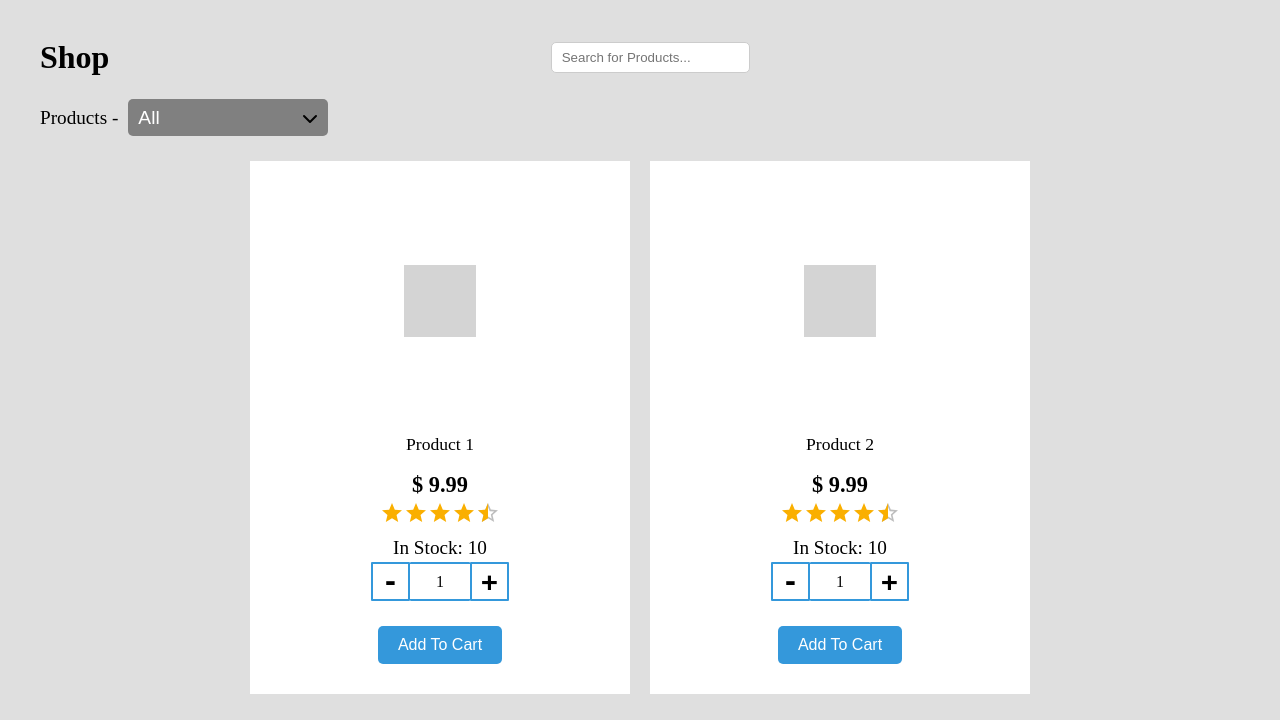
Shop › Categories onclick proper content render
Select "Cat 1" in the dropdown: (228, 118) [128, 99, 328, 136]
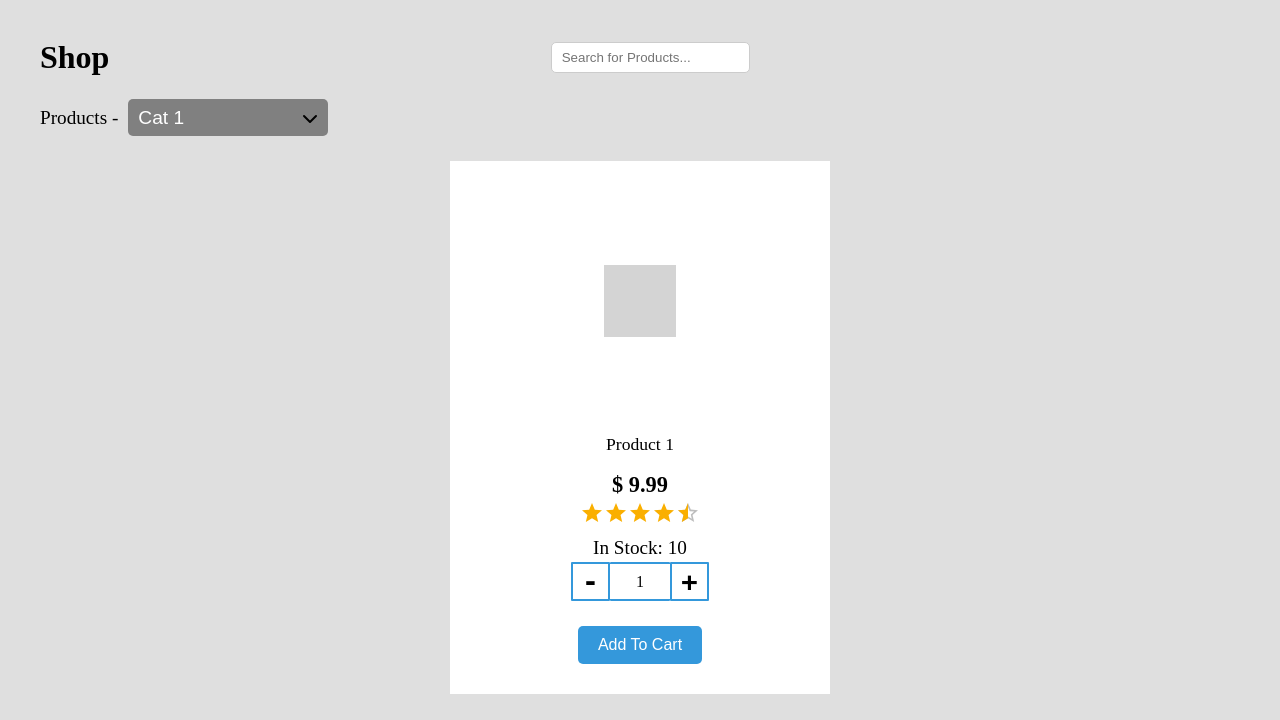
Expected: the text "Product 1" is shown, [606, 431, 674, 459]
Now the text "Product 2" is gone
Select "Cat 2" in the dropdown: (228, 118) [128, 99, 328, 136]
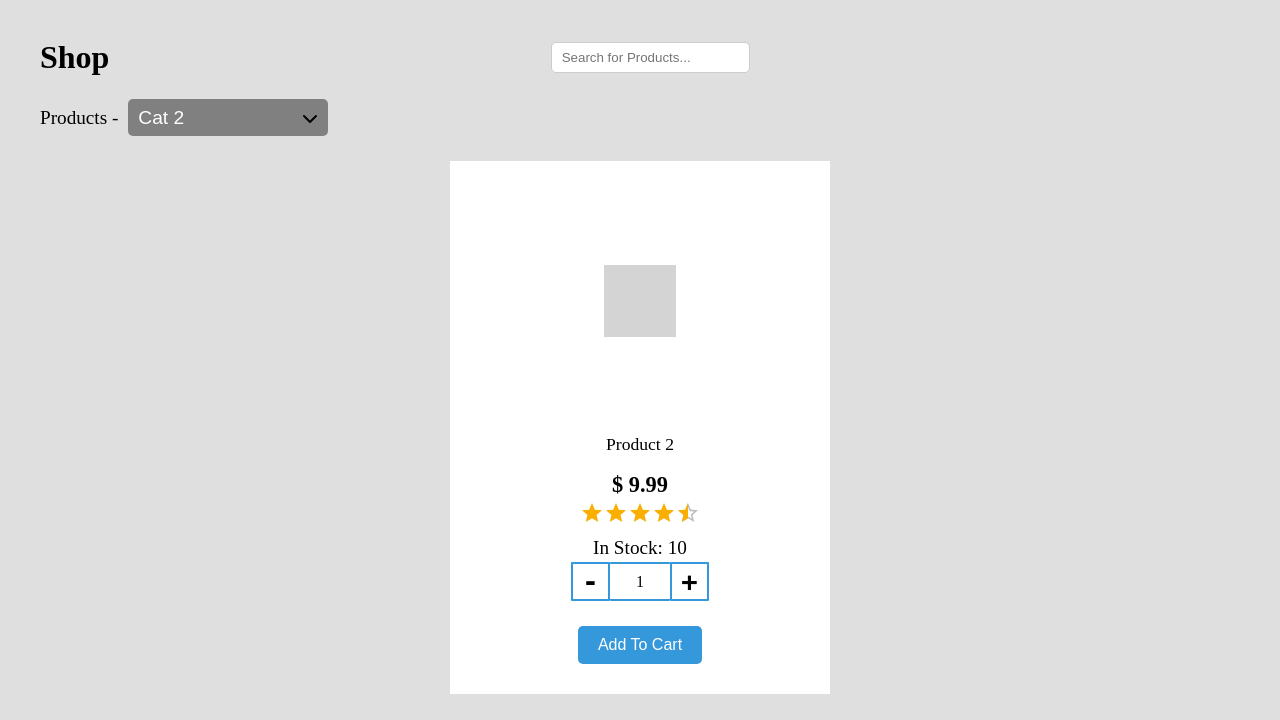
Now the text "Product 2" is shown, box [606, 431, 674, 459]
Now the text "Product 1" is gone
